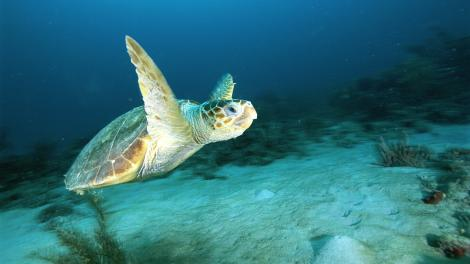trutle: (46, 39, 258, 200)
